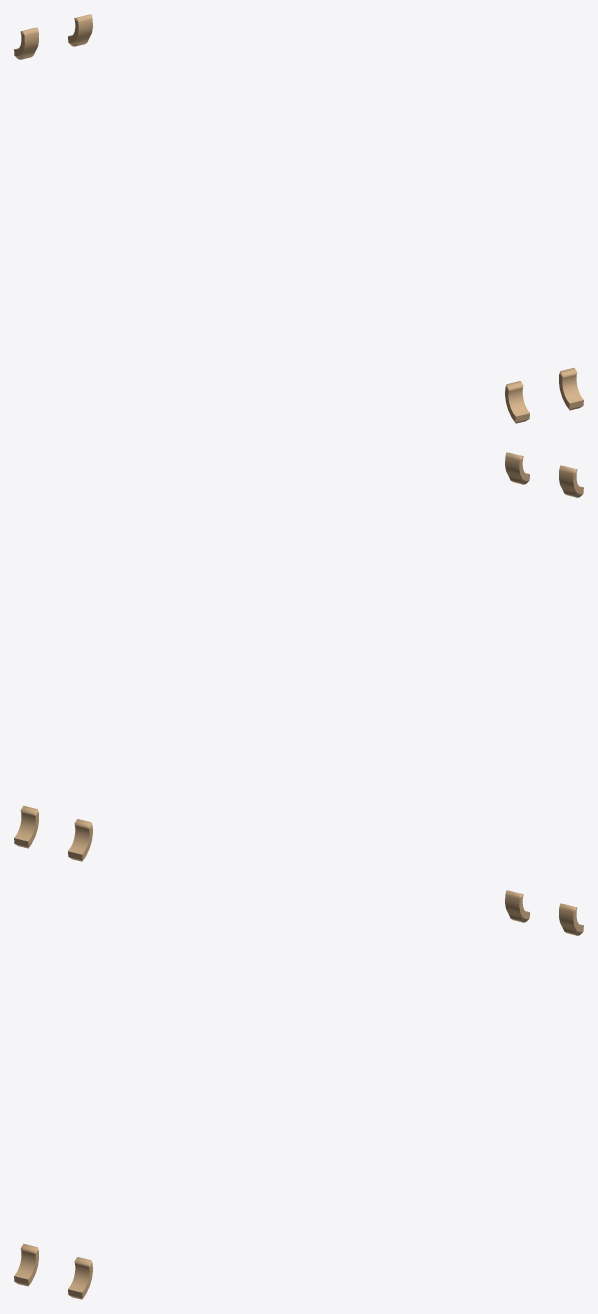
Rendered from REENTRY_CRAFT_DOORS_HINGES.fbx.
The picture shows the model from 3 angles, top to bottom: view 1: azimuth 30°, elevation 25°; view 2: azimuth 150°, elevation 25°; view 3: azimuth 330°, elevation 25°; orthographic projection.
Parts seen in each view (by area): view 1: DOOR_HINGE, DOOR_HINGE1; view 2: DOOR_HINGE1, DOOR_HINGE; view 3: DOOR_HINGE, DOOR_HINGE1.
Part boxes in pixels (x1,y1,x2,y2): DOOR_HINGE: (505,367,583,423); DOOR_HINGE1: (14,14,92,59); DOOR_HINGE1: (14,805,92,861); DOOR_HINGE: (505,452,583,497); DOOR_HINGE: (14,1243,92,1299); DOOR_HINGE1: (505,890,583,935).
Bounding box in the file's own units: 0.00315 × 0.00152 × 0.0402.
